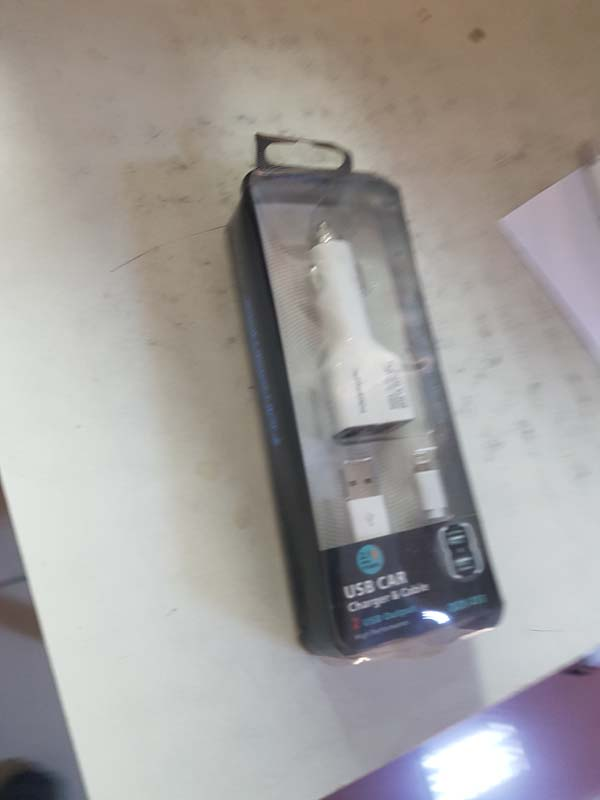usbcarcharger: (214, 121, 522, 673)
